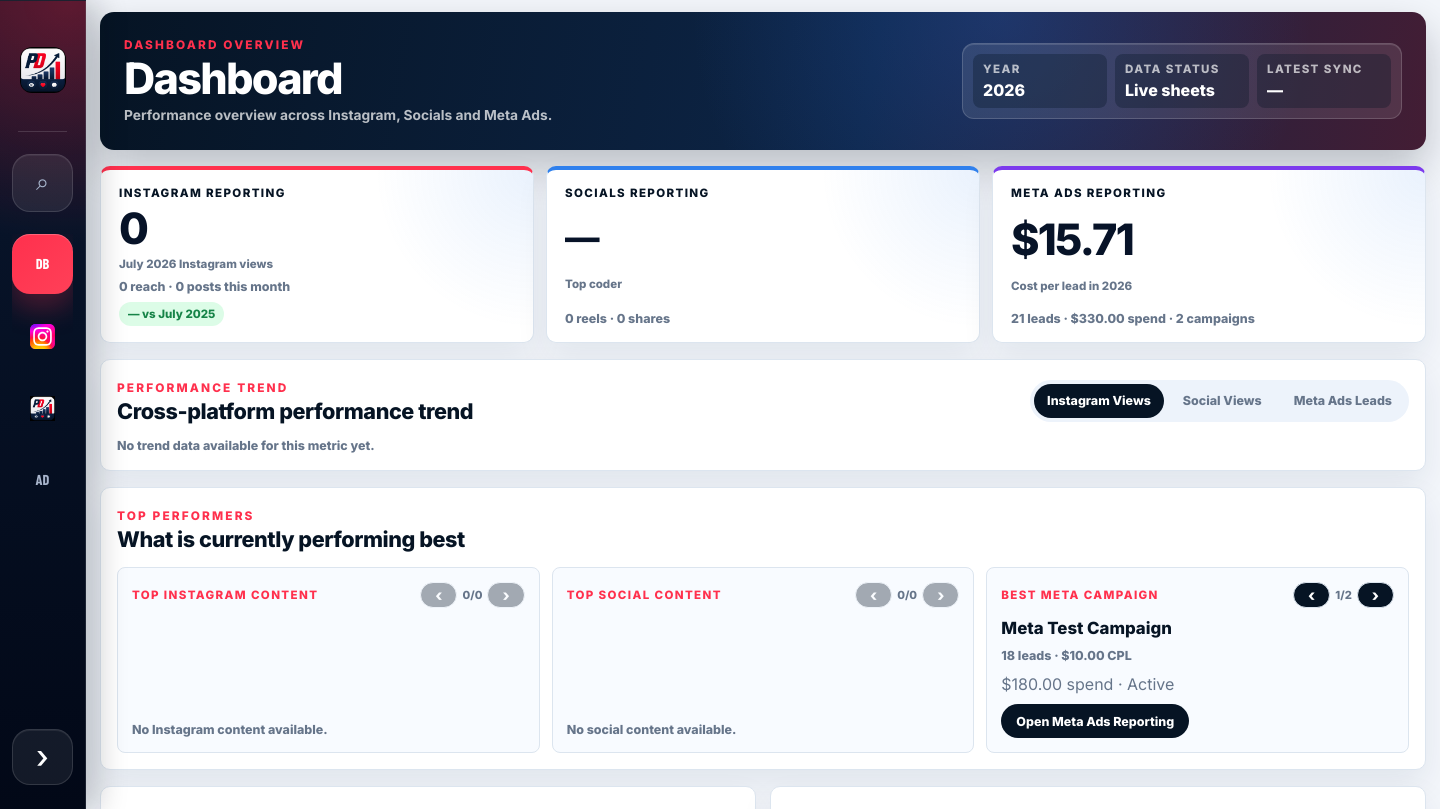
Test: shows lead pipeline rows from the lead sheet for the selected campaign
Click the button with aria-label "meta ads reporting paid campaigns".
click(42, 480)  # box [12, 450, 73, 510]
(page scrolled)
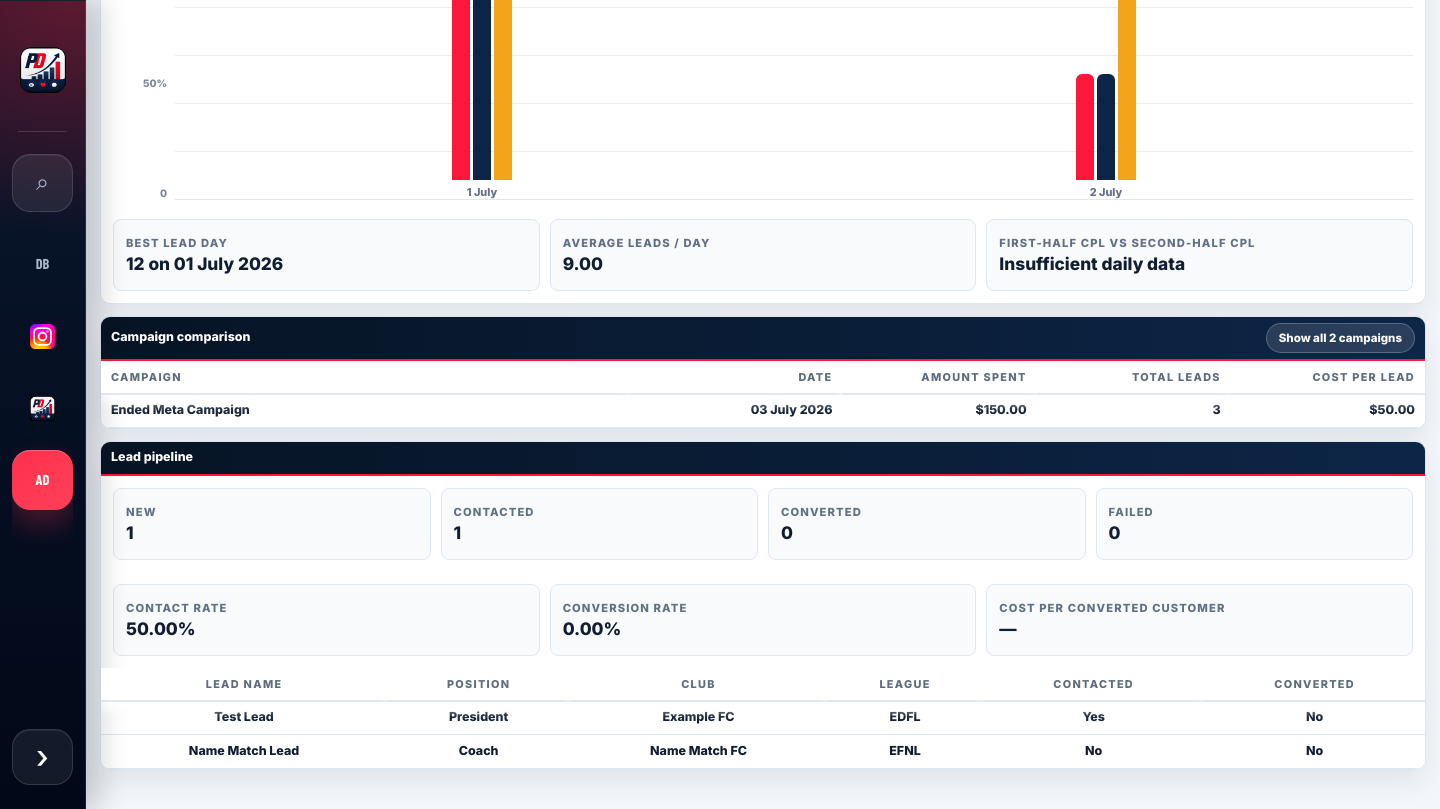
Expected: the text "Test Lead" is shown, [101, 701, 387, 735]
Expected: the text "Name Match Lead" is shown, [101, 735, 387, 769]
Expected: the text "President" is shown, [387, 701, 570, 735]
